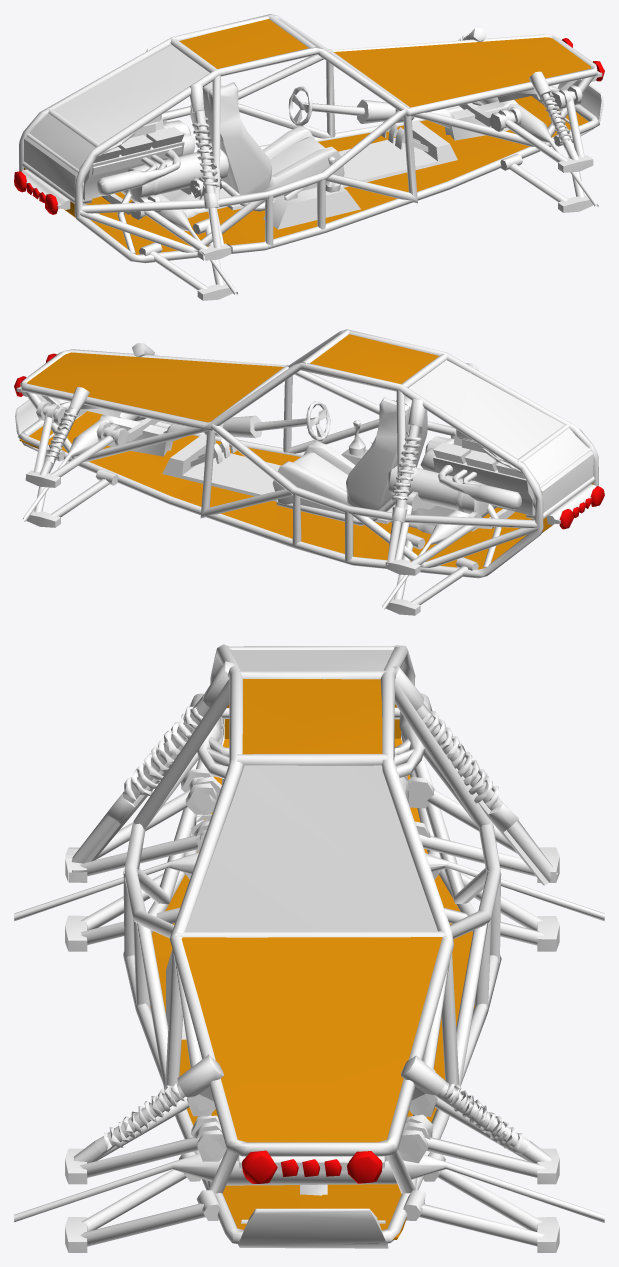
The model's file is Buggy_LOD.fbx.
3 renders of one model, top to bottom at view 1: azimuth 30°, elevation 25°; view 2: azimuth 150°, elevation 25°; view 3: azimuth 270°, elevation 25°, orthographic. The views are drawn at different scales.
Parts seen in each view (by area): view 1: Buggy_LOD0; view 2: Buggy_LOD0; view 3: Buggy_LOD0.
Part boxes in pixels (<box>): Buggy_LOD0: <box>14,14,604,300</box>; Buggy_LOD0: <box>14,329,604,615</box>; Buggy_LOD0: <box>14,644,604,1252</box>.
Size of what is drawn, in the model's own units: 630 by 198 by 340.
